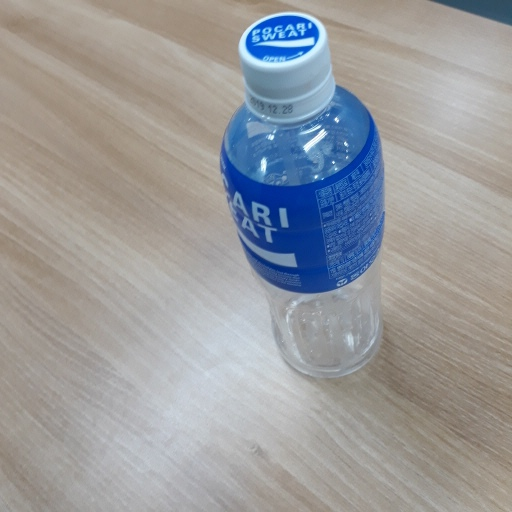Plastic_0: (221, 11, 395, 381)
